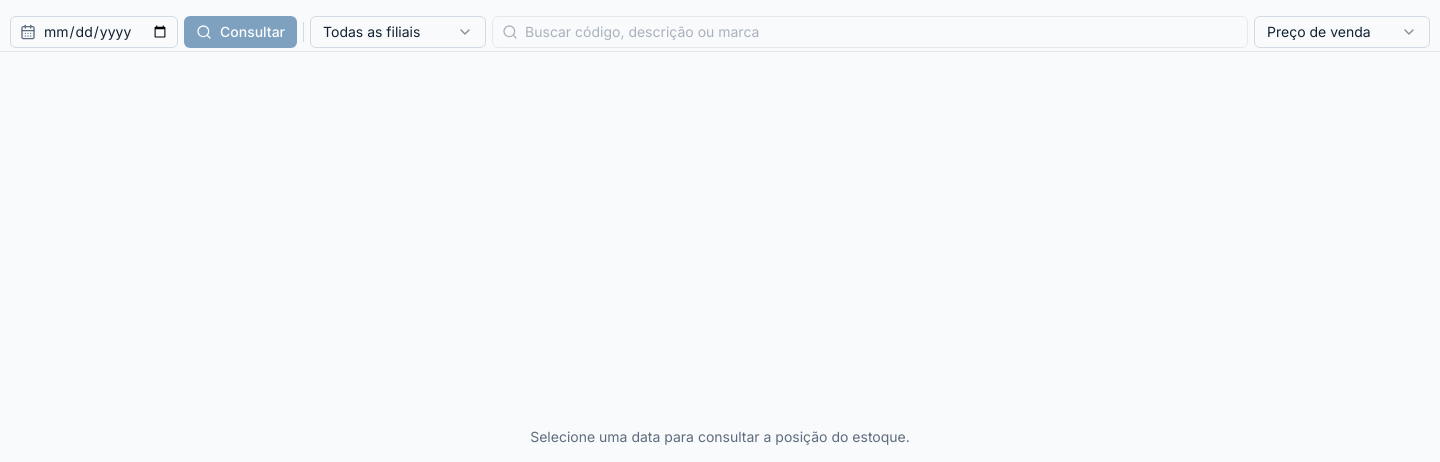
Test: EstoqueRetroativoPage › isola estritamente os registros BI da filial 1004
Type "2026-08-31" into the date field named "Data do estoque" at (94, 32), box [10,16,178,48]
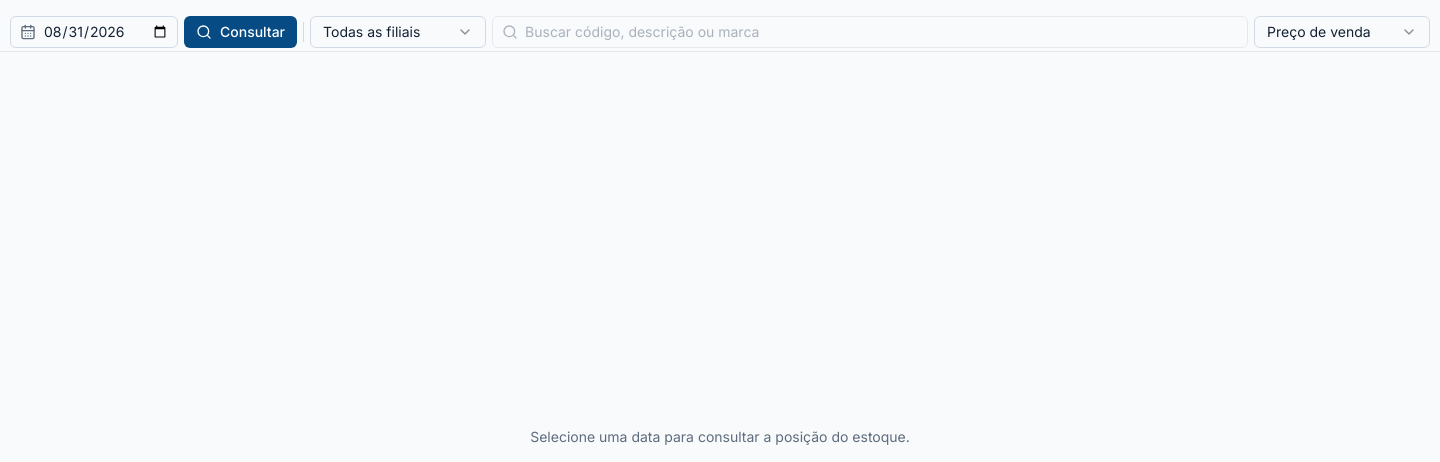
Click the button "Consultar" at (240, 32), box [184,16,297,48]
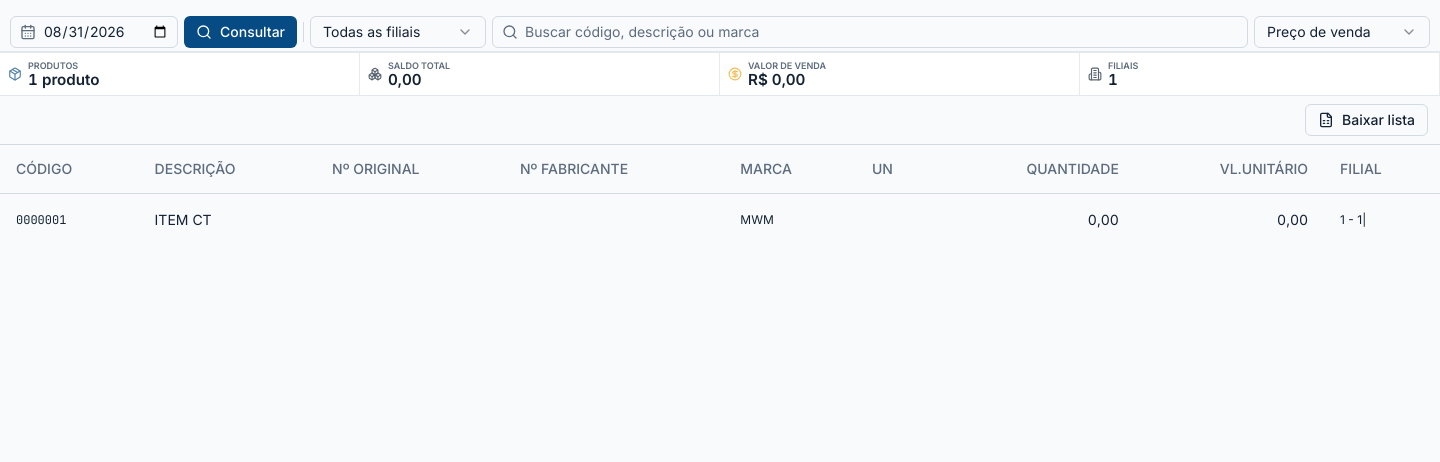
Expected: the text "1 produto" is shown, [28,70,100,89]
